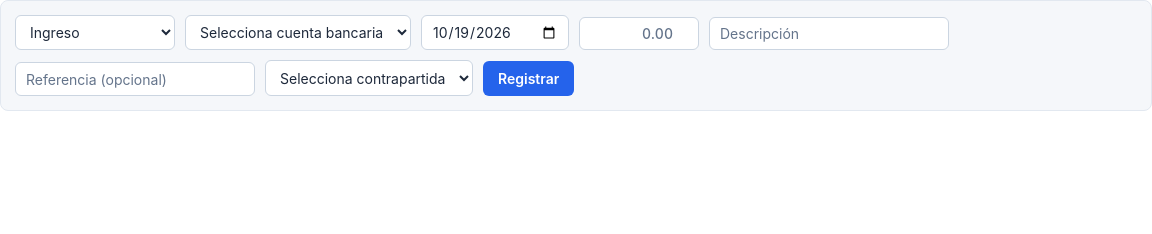
Test: FormularioMovimiento › cuentas en dólares › sin monto destino no permite registrar la transferencia cruzada
Select "Transferencia" in the dropdown named "Operación" at [95, 33], box 15,15 -> 175,50
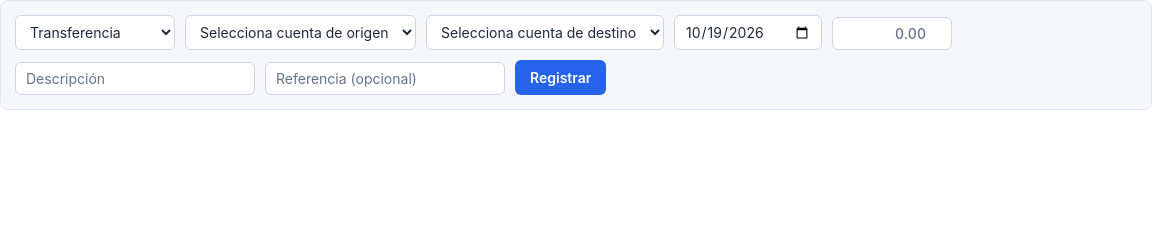
Select "BAC 123" in the dropdown named "Cuenta de origen" at [300, 33], box 185,15 -> 416,50
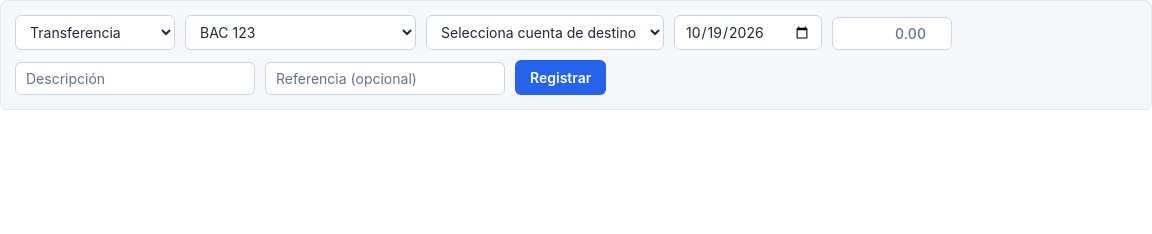
Select "BAC USD-1 (USD)" in the dropdown named "Cuenta de destino" at [545, 33], box 426,15 -> 664,50
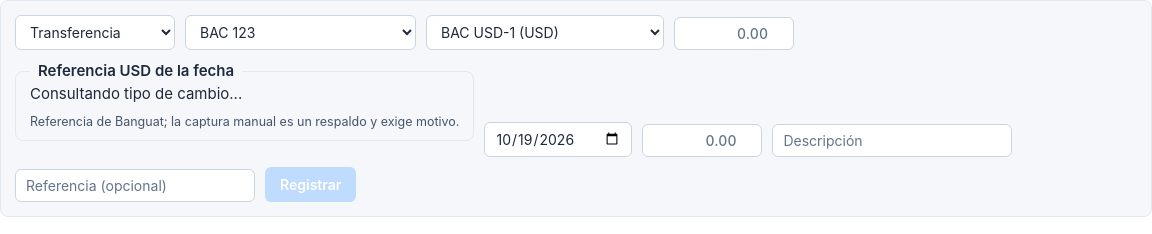
Type "2025-03-01" into the date field named "Fecha del movimiento" at [558, 140], box 484,122 -> 632,157
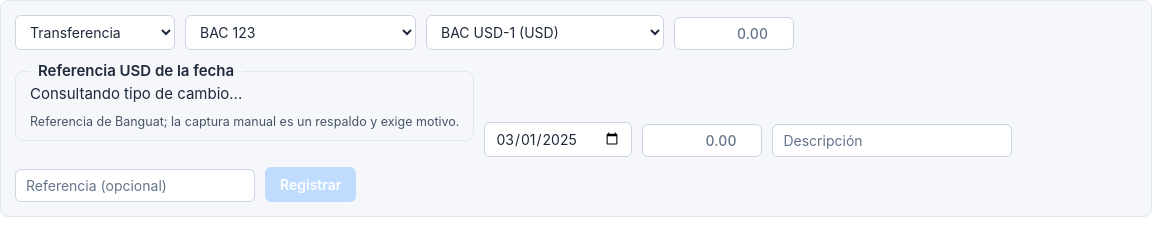
Type "7700" into the number field named "Monto del movimiento" at [702, 140], box 642,124 -> 762,157
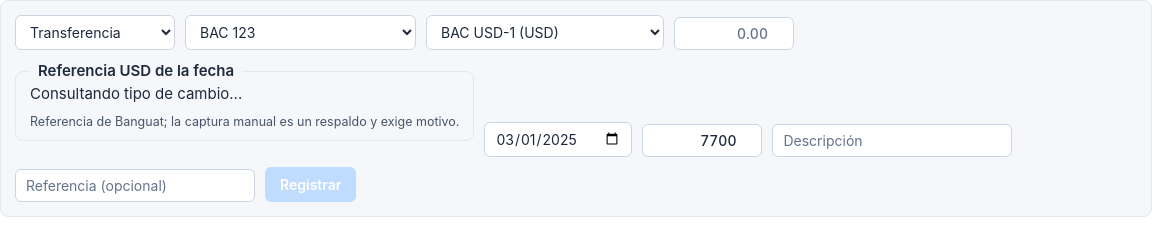
Type " Comisión " into the field named "Descripción del movimiento" at [892, 140], box 772,124 -> 1012,157
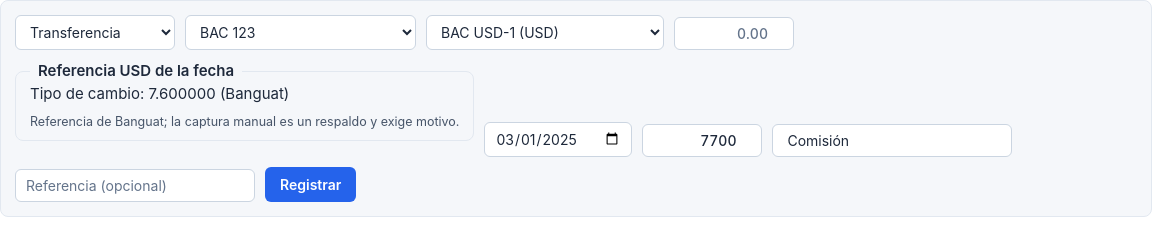
Now the text "Tipo de cambio: 7.600000 (Banguat)" is shown, box 30,84 -> 289,103
